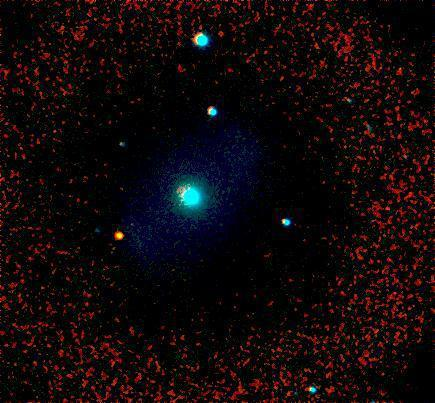star: (103, 220, 133, 250)
